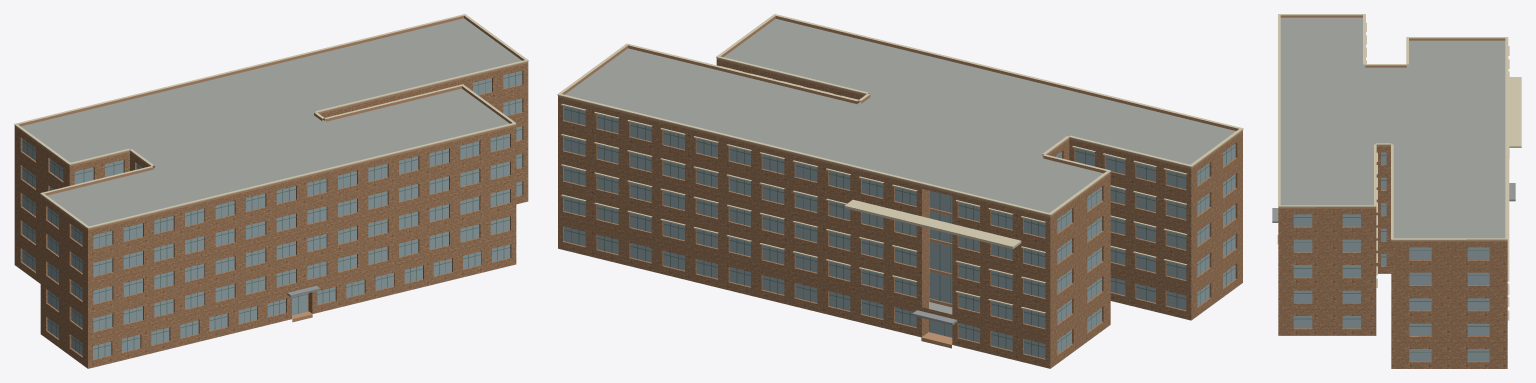
The picture shows the model from 3 angles, left to right: view 1: azimuth 30°, elevation 25°; view 2: azimuth 150°, elevation 25°; view 3: azimuth 270°, elevation 25°; orthographic projection. The views are drawn at different scales.
Visible parts, largest first — view 1: b115951790__wall, b115951790__roof, b115951790__glass, b115951790__frame, b115951790__parapet, b115951790__trim; view 2: b115951790__wall, b115951790__roof, b115951790__glass, b115951790__trim, b115951790__frame, b115951790__parapet; view 3: b115951790__roof, b115951790__wall, b115951790__glass, b115951790__trim, b115951790__parapet, b115951790__frame, b115951790__canopy.
Boxes of the visible parts, x1=… form: b115951790__wall: x1=14, y1=63, x2=528, y2=368; b115951790__roof: x1=21, y1=18, x2=525, y2=368; b115951790__glass: x1=22, y1=71, x2=522, y2=359; b115951790__frame: x1=22, y1=72, x2=522, y2=358; b115951790__parapet: x1=14, y1=15, x2=528, y2=230; b115951790__trim: x1=14, y1=14, x2=528, y2=228; b115951790__wall: x1=558, y1=60, x2=1242, y2=368; b115951790__roof: x1=558, y1=19, x2=1242, y2=368; b115951790__glass: x1=564, y1=106, x2=1235, y2=358; b115951790__trim: x1=557, y1=14, x2=1243, y2=314; b115951790__frame: x1=564, y1=108, x2=1235, y2=357; b115951790__parapet: x1=558, y1=16, x2=1242, y2=217; b115951790__roof: x1=1278, y1=17, x2=1505, y2=336; b115951790__wall: x1=1278, y1=146, x2=1507, y2=368; b115951790__glass: x1=1293, y1=152, x2=1489, y2=361; b115951790__trim: x1=1278, y1=14, x2=1521, y2=320; b115951790__parapet: x1=1278, y1=15, x2=1507, y2=241; b115951790__frame: x1=1293, y1=155, x2=1489, y2=352; b115951790__canopy: x1=1272, y1=183, x2=1515, y2=222.
Bounding box in the file's own units: 68.5 × 18.75 × 32.05.
11 materials, 1 textured.
